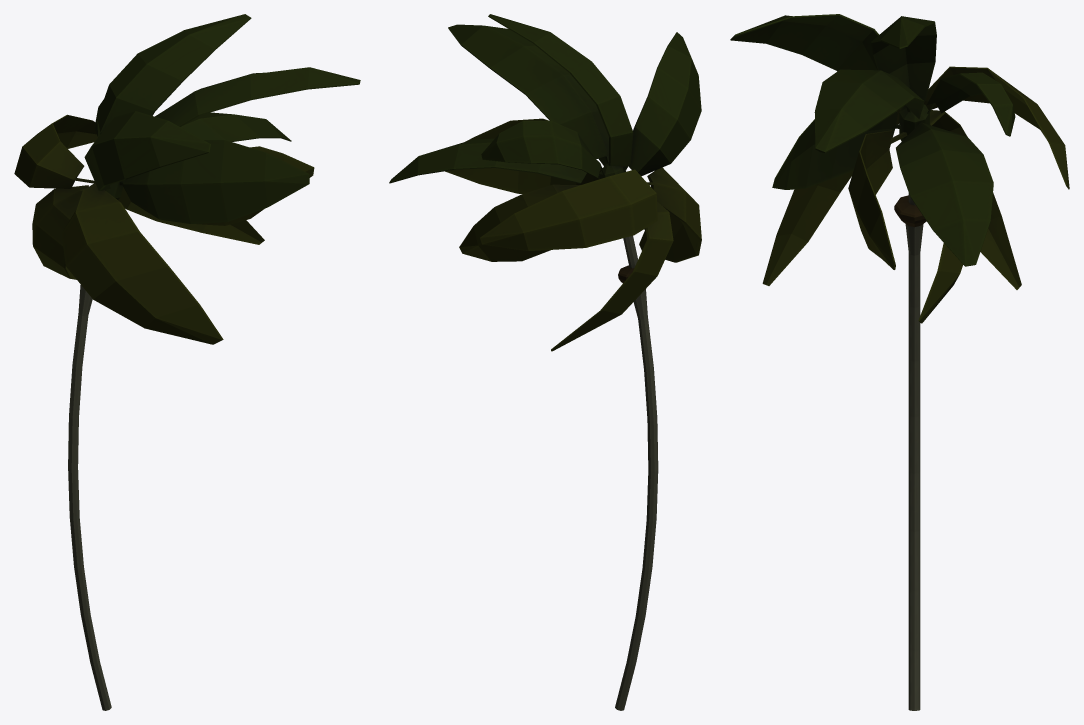
File: HurricanePalmTree-smalltexture.glb
3 renders of one model, left to right at view 1: azimuth 30°, elevation 25°; view 2: azimuth 150°, elevation 25°; view 3: azimuth 270°, elevation 25°, orthographic. The views are drawn at different scales.
Visible parts, largest first — view 1: node-0; view 2: node-0; view 3: node-0.
Boxes of the visible parts, <box> form: node-0: <box>14,14,360,710</box>; node-0: <box>389,14,701,710</box>; node-0: <box>730,14,1069,710</box>.
Size of the model in its own units: 12.07 by 27.77 by 11.55.
1 material, 1 textured.
